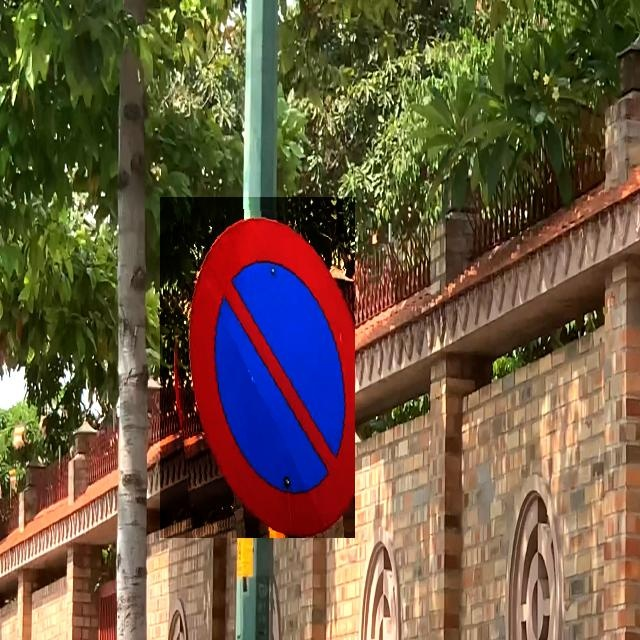bien_cam: (160, 197, 355, 538)
